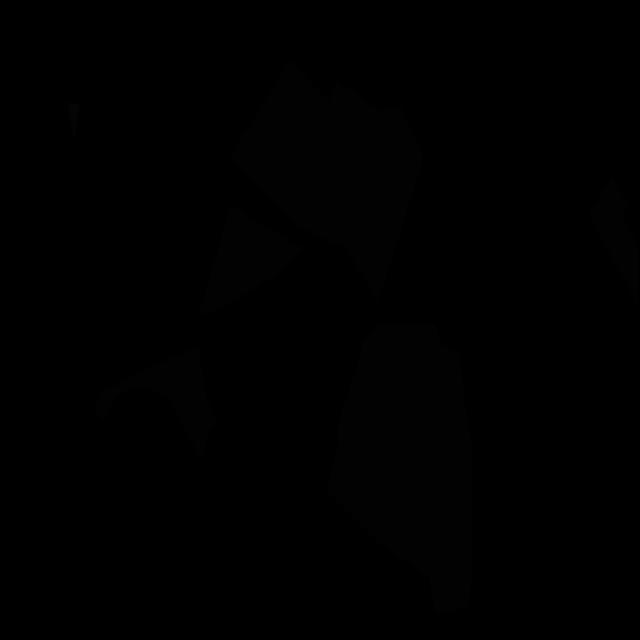cardboard: (230, 60, 424, 303), (326, 324, 472, 615), (96, 345, 218, 462), (199, 205, 304, 314), (588, 178, 639, 307)
soft_plastic: (68, 102, 80, 142)
